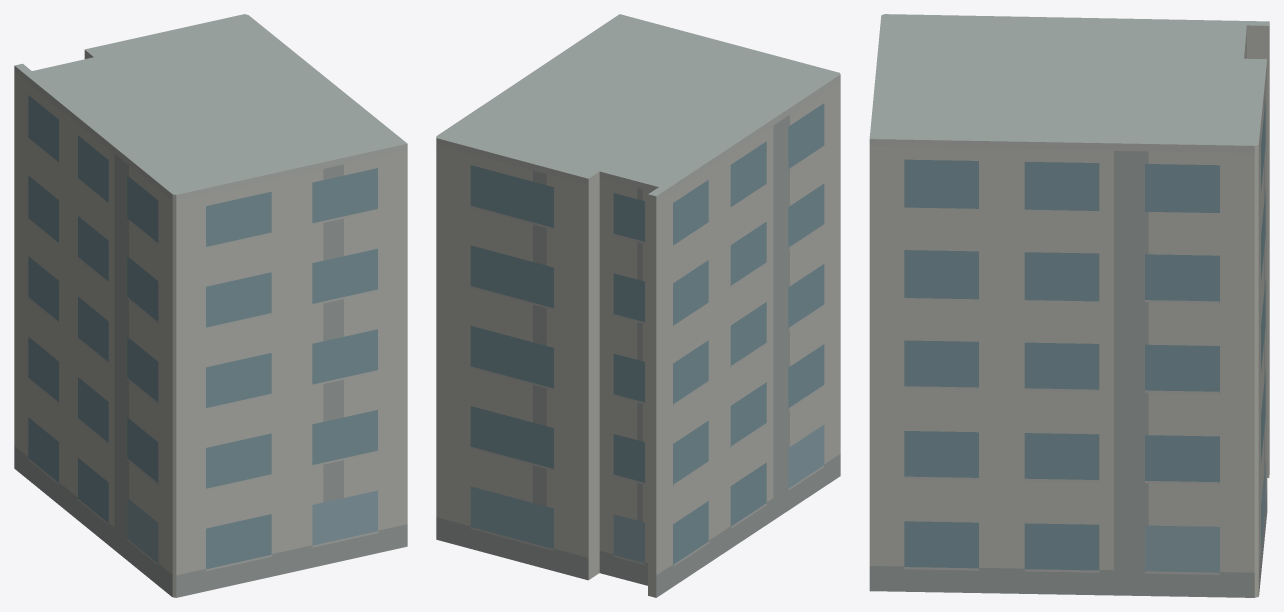
File: survey-upis-32854835.glb
3 renders of one model, left to right at view 1: azimuth 30°, elevation 25°; view 2: azimuth 150°, elevation 25°; view 3: azimuth 270°, elevation 25°, orthographic. The views are drawn at different scales.
Visible parts, largest first — view 1: survey-upis-32854835.tmp; view 2: survey-upis-32854835.tmp; view 3: survey-upis-32854835.tmp.
Boxes of the visible parts, x1,y1,x2,y2 form: survey-upis-32854835.tmp: (14,14,407,597); survey-upis-32854835.tmp: (436,14,840,597); survey-upis-32854835.tmp: (869,14,1269,597).
Size of the model in its own units: 9.23 by 14.75 by 11.84.
